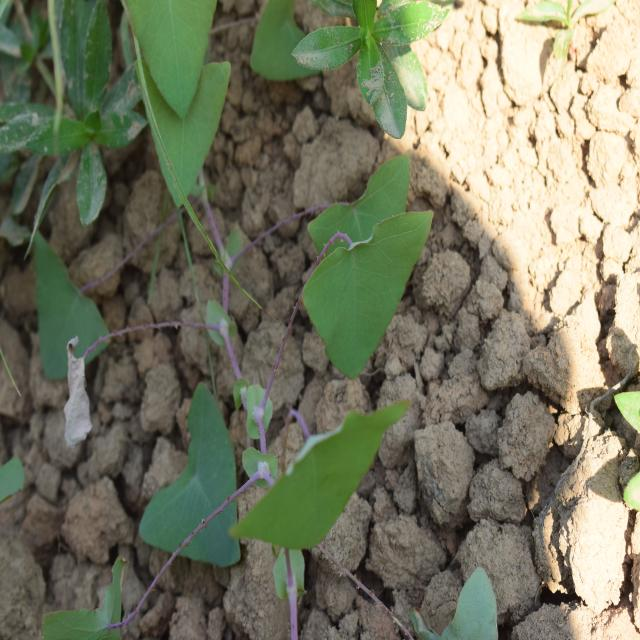Asiatic_Smartweed: (294, 160, 432, 384), (248, 394, 400, 546), (136, 376, 252, 571)
